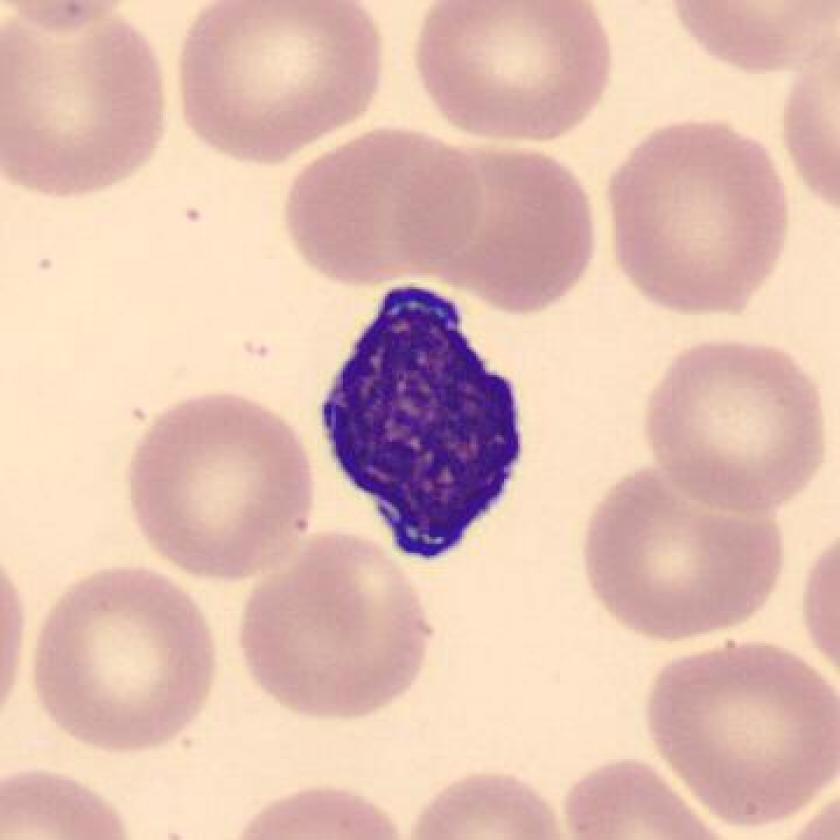lymphocyte: (305, 267, 543, 580)
